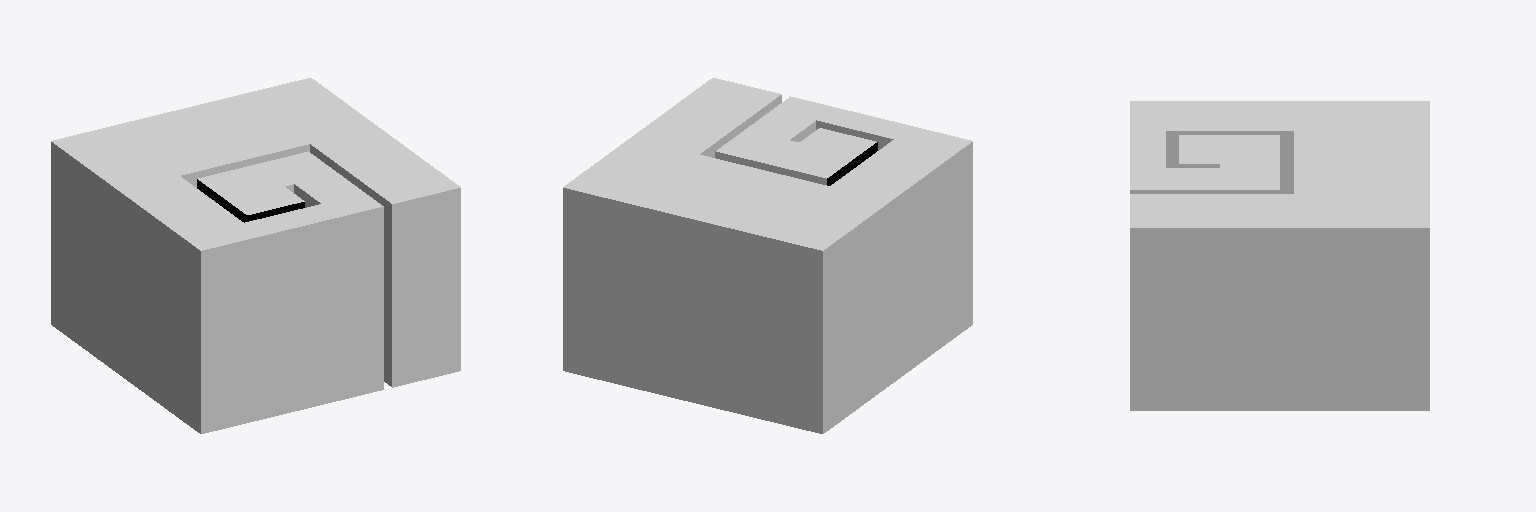
The model's file is spiral.obj.
3 renders of one model, left to right at view 1: azimuth 30°, elevation 25°; view 2: azimuth 150°, elevation 25°; view 3: azimuth 270°, elevation 25°, orthographic.
Parts seen in each view (by area): view 1: Cube; view 2: Cube; view 3: Cube.
Boxes of the visible parts, x1=… form: Cube: x1=51, y1=78, x2=460, y2=433; Cube: x1=563, y1=78, x2=972, y2=433; Cube: x1=1130, y1=101, x2=1429, y2=410.
Bounding box in the file's own units: 14.65 × 9.87 × 14.65.